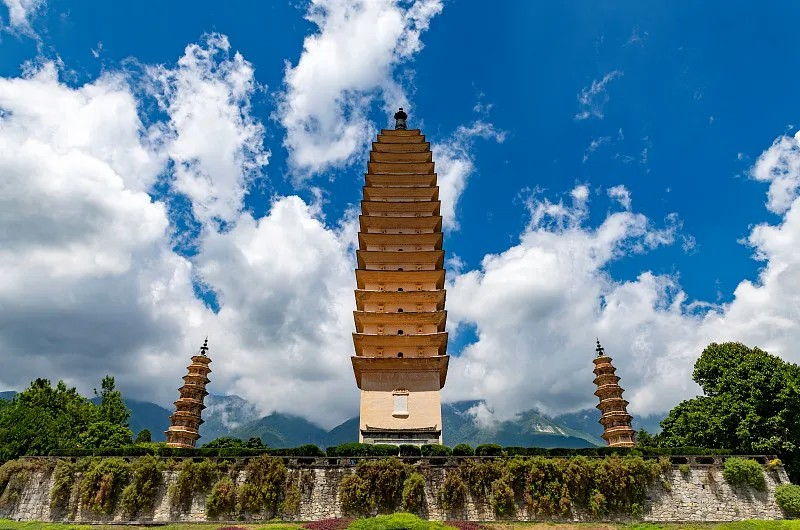ThreePagoda: (351, 107, 450, 443)
